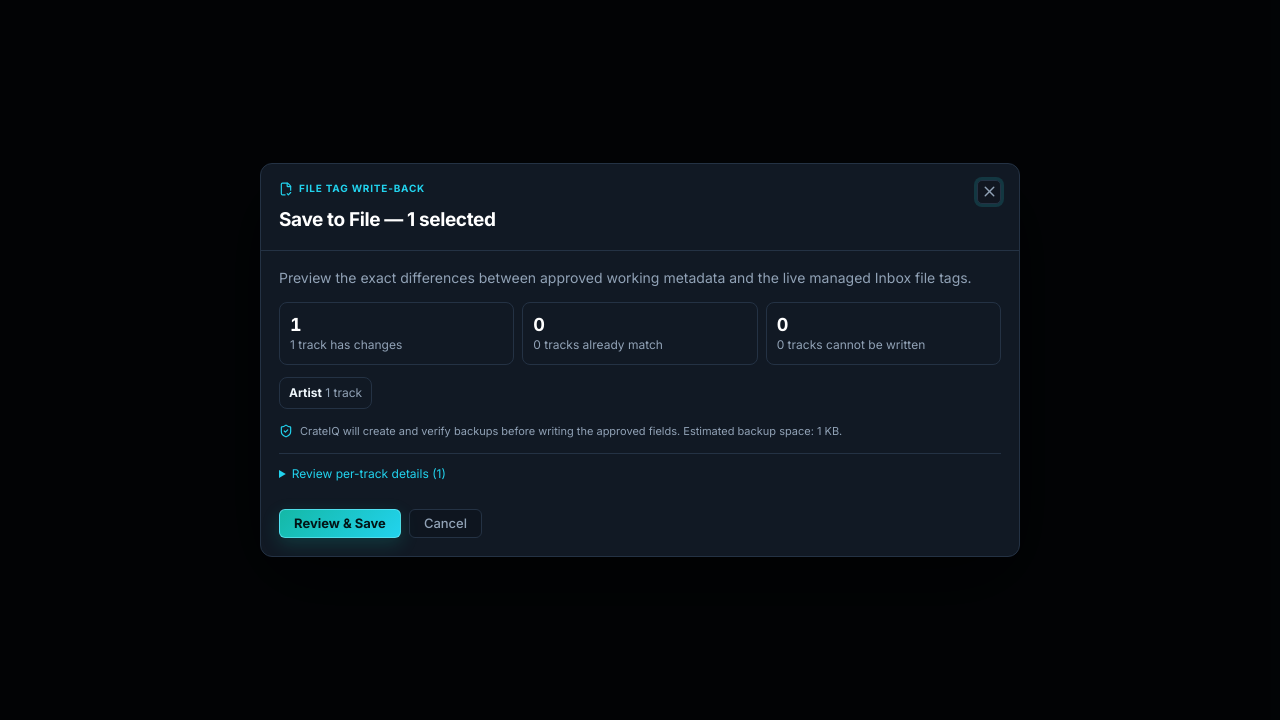
it: SaveToFileDialog › does not claim saved when the writer result is not verified
What coordinates should you click on to do the following:
click the button "Review & Save"
I would click on:
 (340, 524)
Its box is [279,509,401,538].
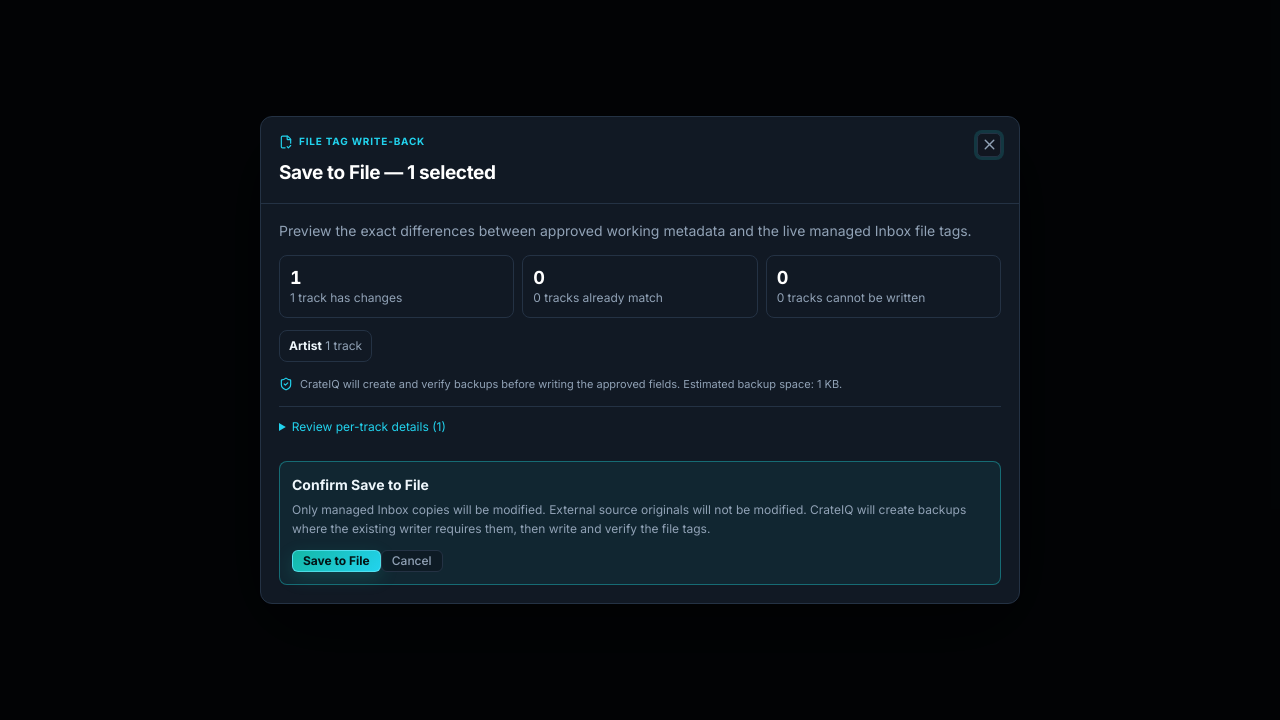
What coordinates should you click on to do the following:
click the button "Save to File"
I would click on:
 (336, 561)
Its box is [292,550,381,572].
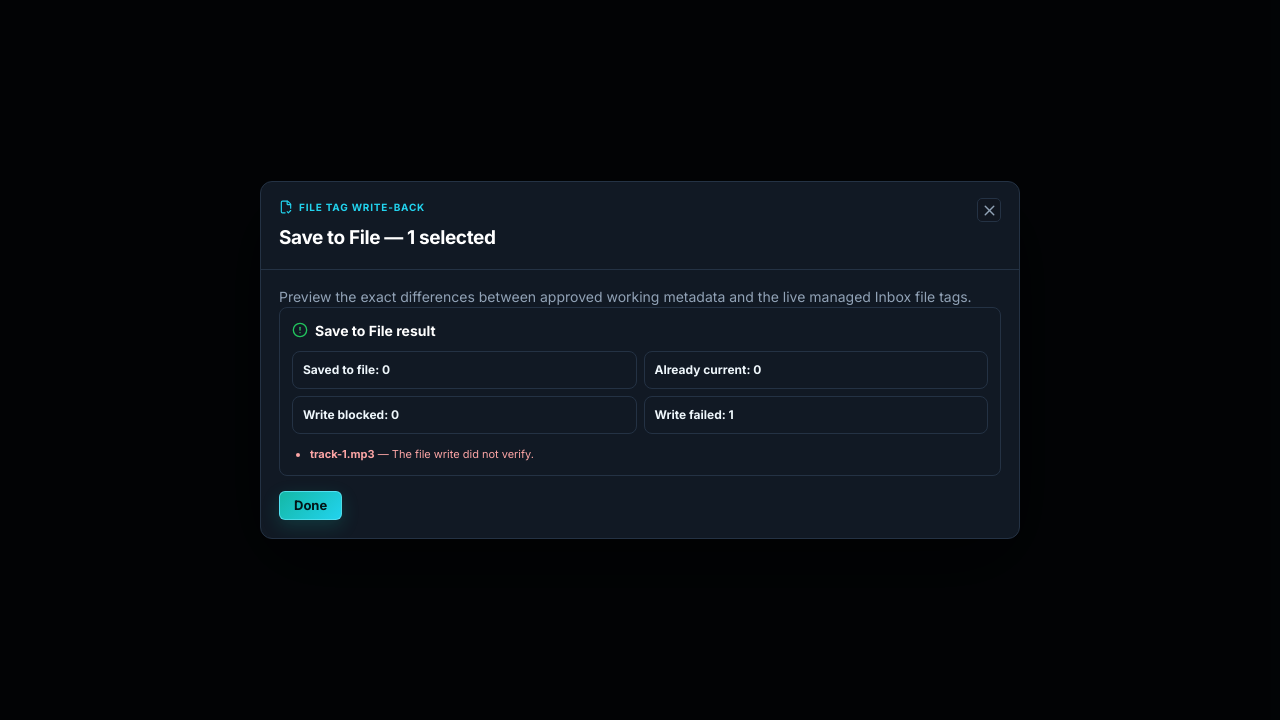
Expected: the text "Write failed: 1" is shown, [654,407,734,422]
